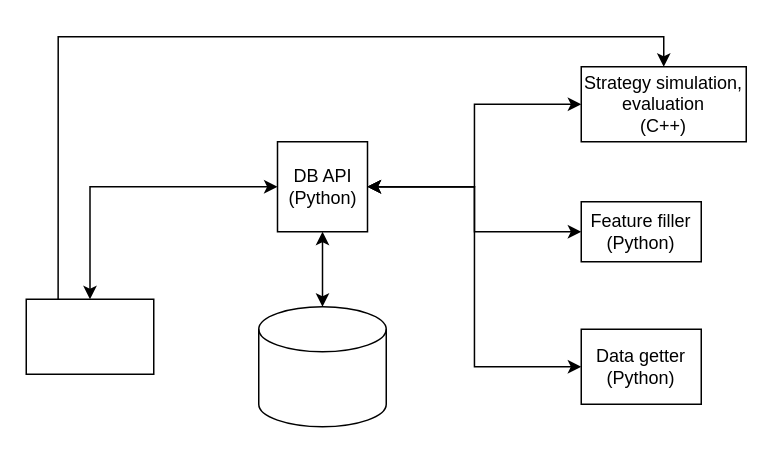
This 773x453 diagram has some shape labels left out. The box of each missing label's shape, as (x1, y1, x2, y2) in pixels:
Database (SQLite): (257, 305, 386, 427)
UI (NodeJS): (25, 298, 154, 374)
